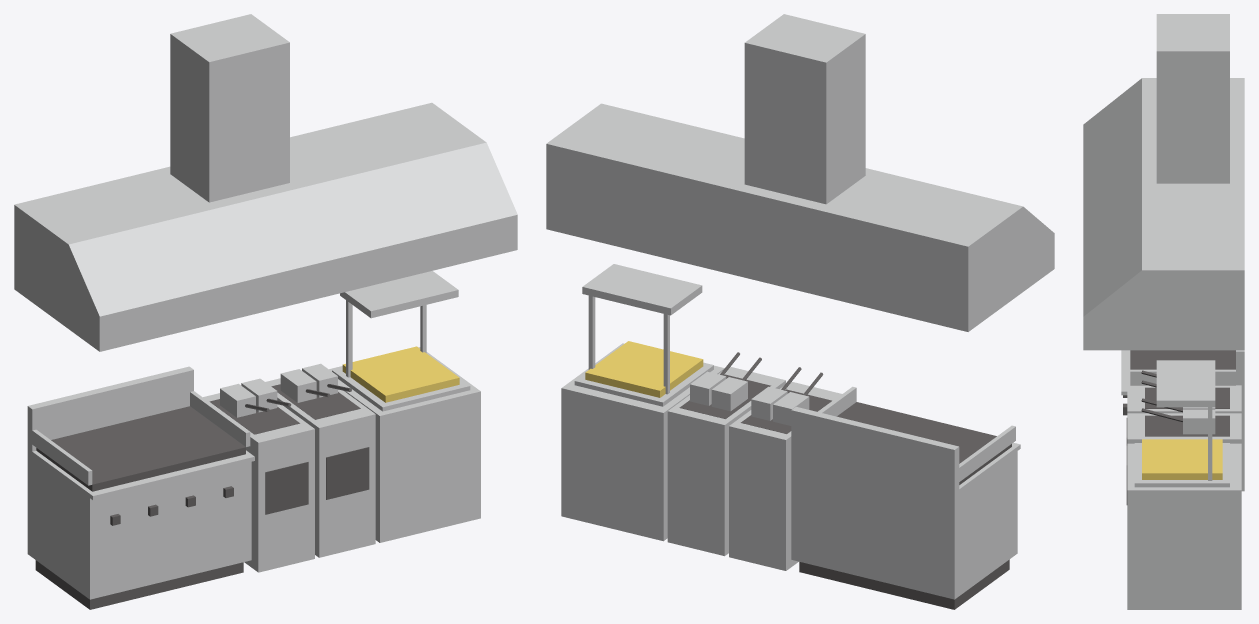
Rendered from grill_line.glb.
The picture shows the model from 3 angles, left to right: view 1: azimuth 30°, elevation 25°; view 2: azimuth 150°, elevation 25°; view 3: azimuth 270°, elevation 25°; orthographic projection. The views are drawn at different scales.
Parts seen in each view (by area): view 1: grill_line_steel, grill_line_dark, grill_line_cheese; view 2: grill_line_steel, grill_line_dark, grill_line_cheese; view 3: grill_line_steel, grill_line_dark, grill_line_cheese.
Part boxes in pixels (x1=…): grill_line_steel: x1=14, y1=14, x2=517, y2=599; grill_line_dark: x1=35, y1=384, x2=369, y2=609; grill_line_cheese: x1=342, y1=346, x2=459, y2=402; grill_line_steel: x1=546, y1=14, x2=1054, y2=599; grill_line_dark: x1=679, y1=352, x2=1011, y2=609; grill_line_cheese: x1=585, y1=341, x2=703, y2=397; grill_line_steel: x1=1083, y1=14, x2=1244, y2=609; grill_line_dark: x1=1123, y1=350, x2=1235, y2=504; grill_line_cheese: x1=1142, y1=439, x2=1222, y2=479.
Bounding box in the file's own units: 3.1 × 3.6 × 1.1.
